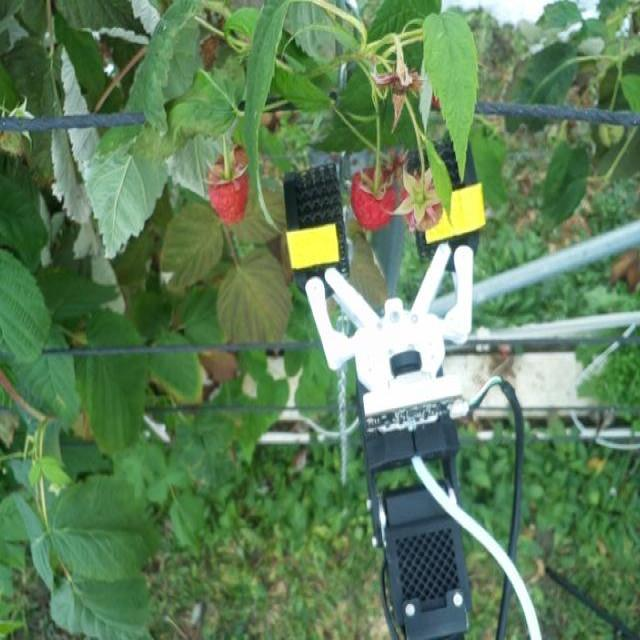Riped berries: (204, 143, 250, 225), (348, 163, 398, 232), (400, 168, 445, 229)
